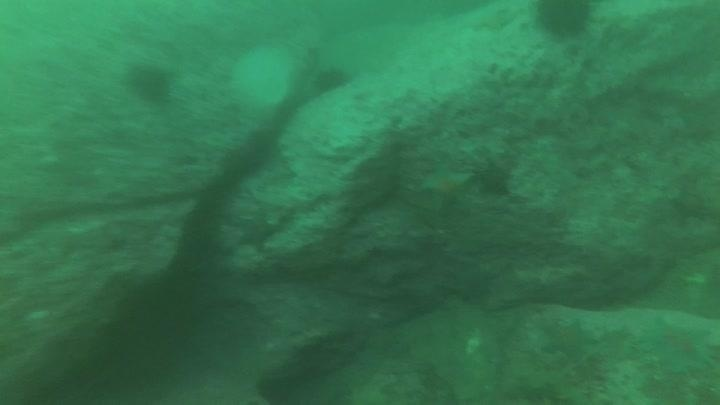echinus: (532, 0, 596, 42), (125, 60, 175, 105), (311, 63, 353, 97)
holothurian: (285, 322, 355, 357)
scallop: (228, 42, 300, 111)
starfish: (636, 312, 718, 377), (417, 158, 477, 214), (540, 316, 598, 364)
